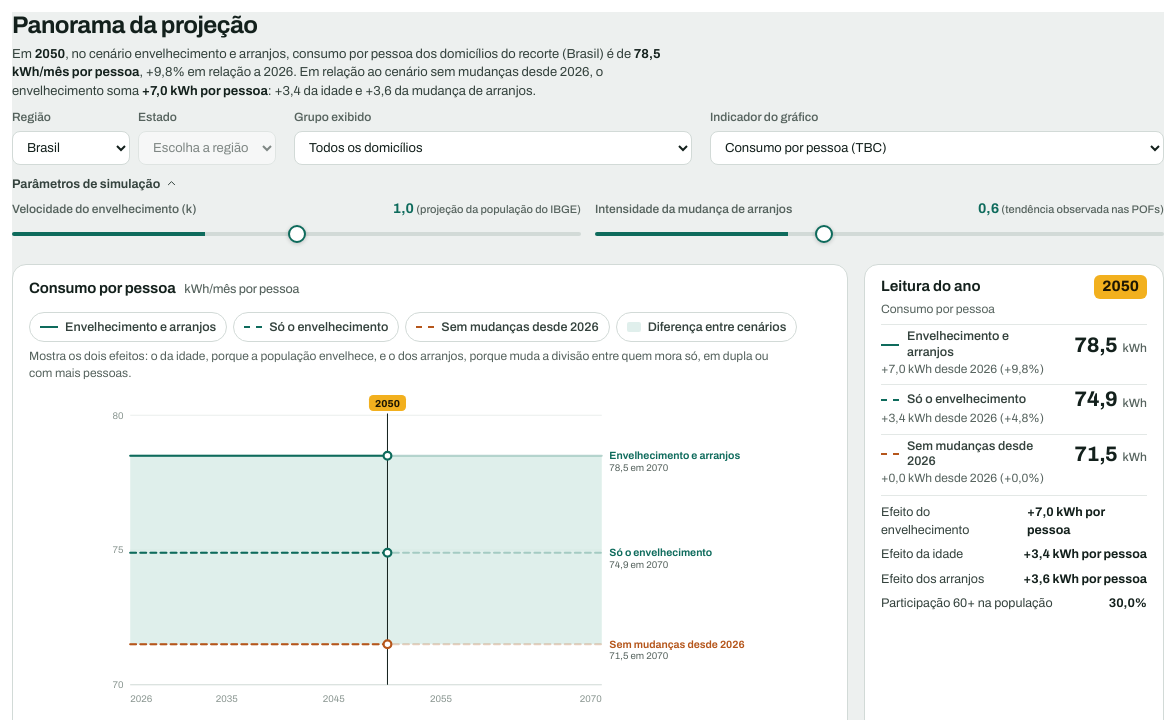
it: Panorama: indicador do gráfico › os outros recortes abrem na participação, e o gráfico e a leitura seguem o indicador
Expected: the element with test id "reg-taxas" is shown, [881,324,1147,382]
Select "Chefe 60+, todos os arranjos" in the dropdown labelled "Grupo exibido": [493, 148] box [294,130,692,164]
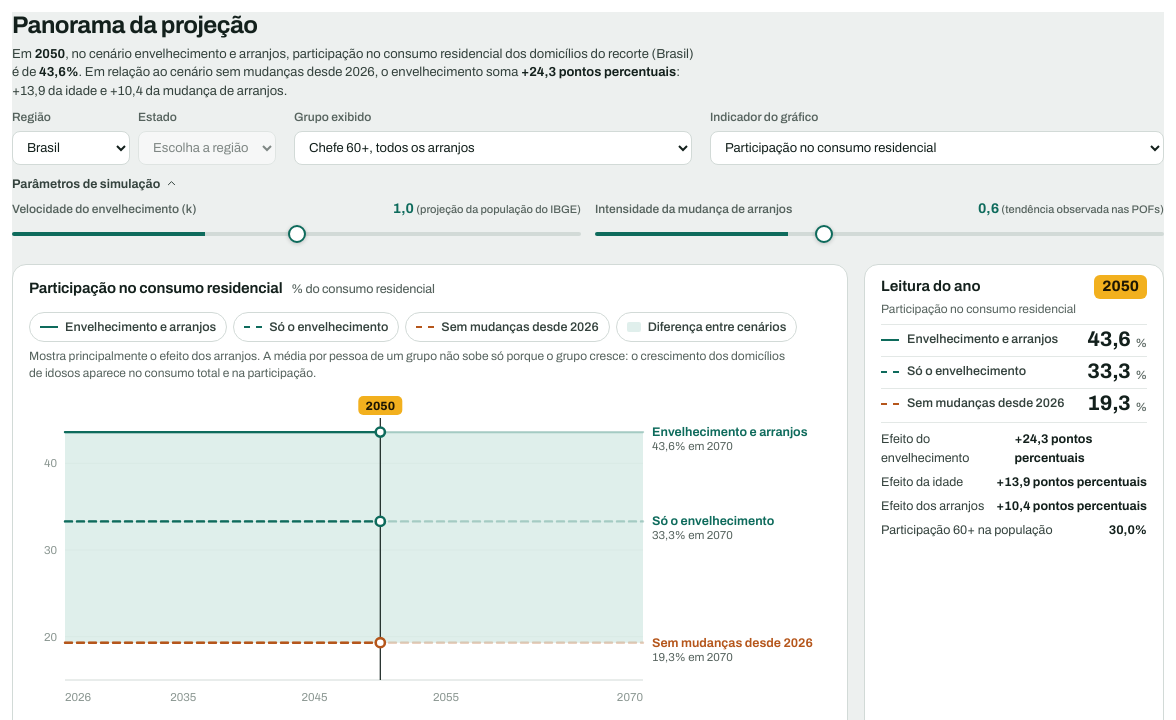
Now the dropdown labelled "Indicador do gráfico" shows "Participação no consumo residencial", box [710,130,1164,164]
Now the heading "Participação no consumo residencial % do consumo residencial" is shown, box [29,278,435,300]
Now the element with test id "decomposicao" shows "+13,9 pontos percentuais", box [996,475,1147,489]
